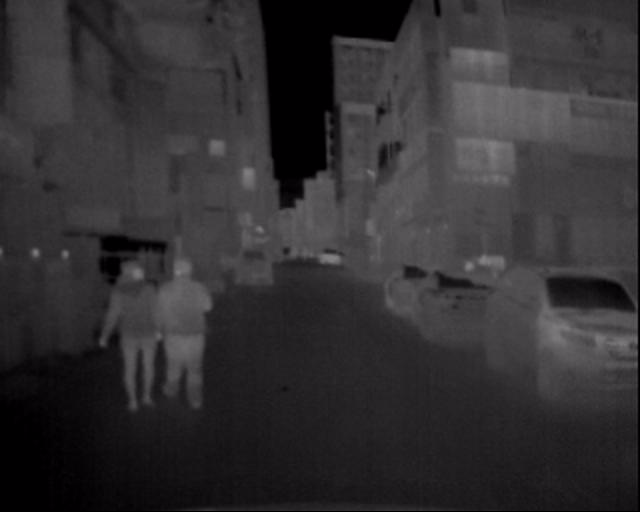person: (91, 216, 164, 423), (152, 216, 209, 423), (455, 240, 484, 294)
